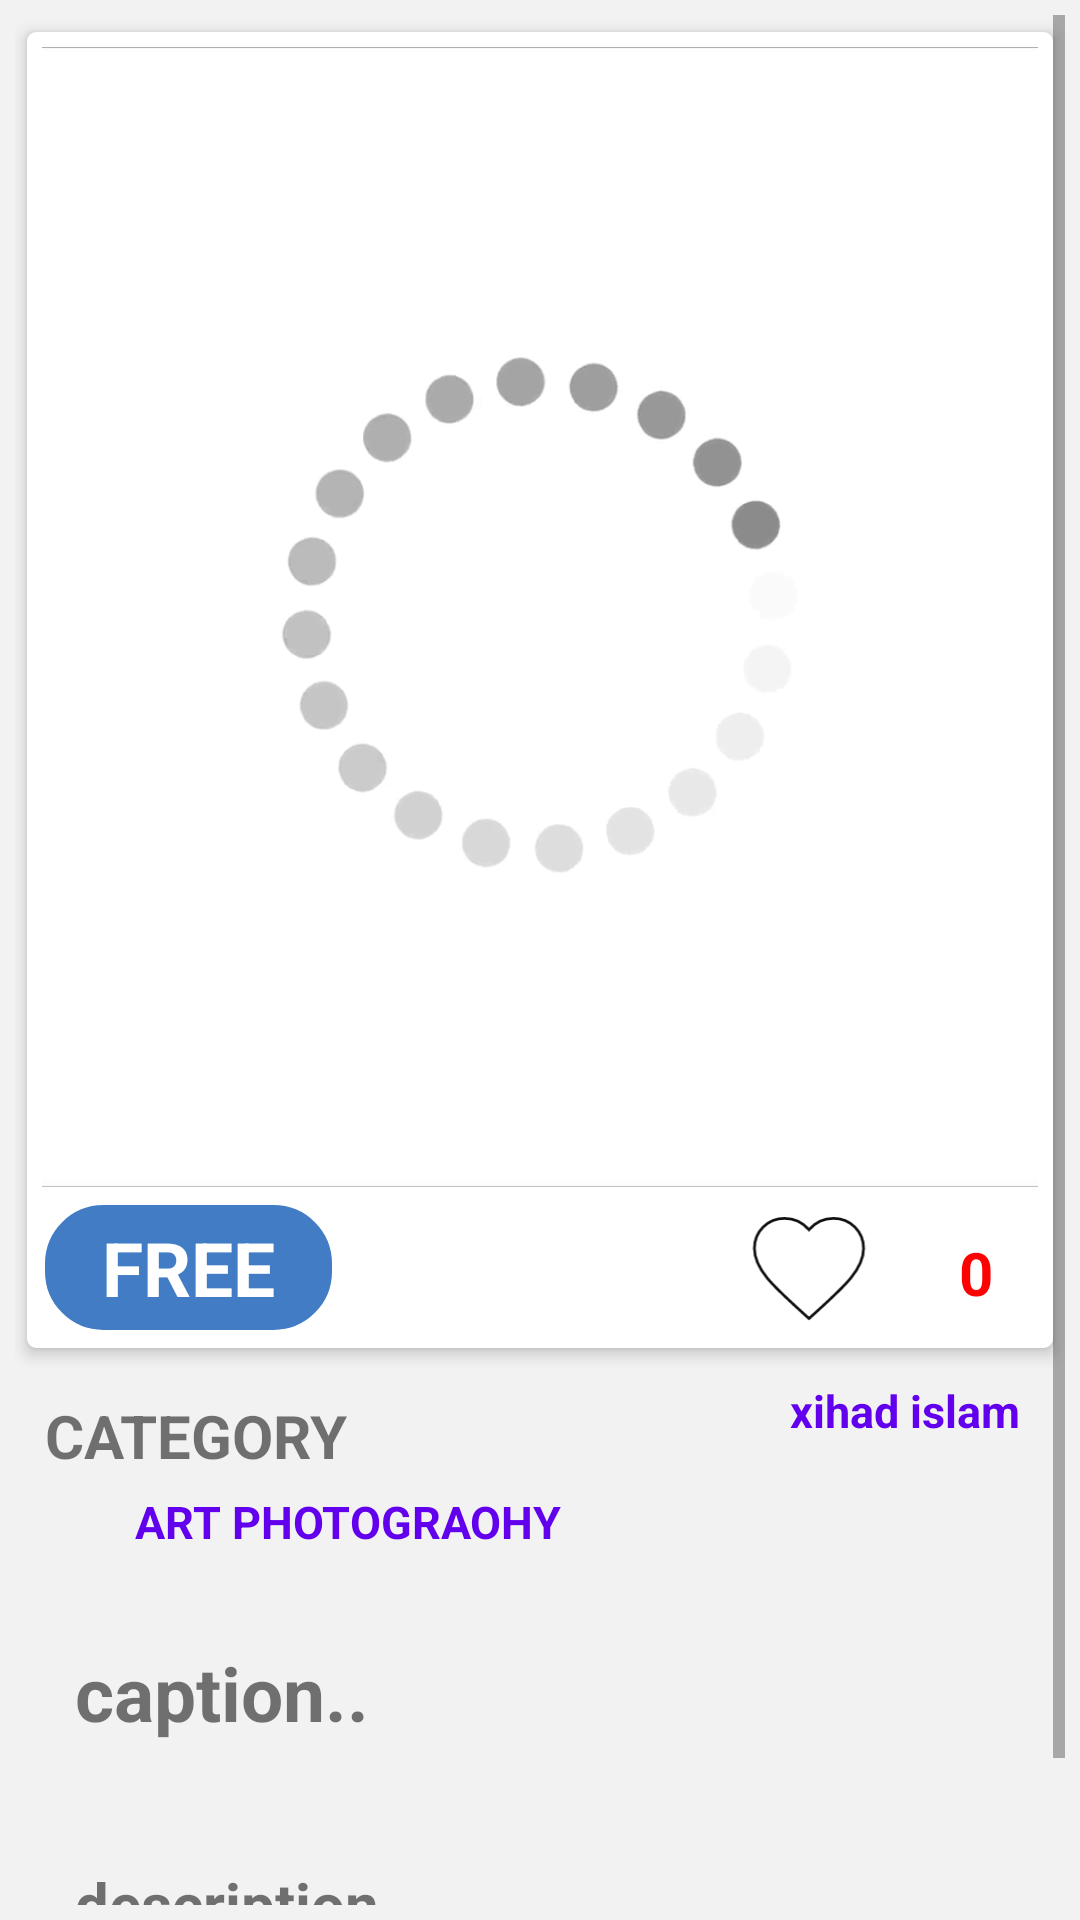

Icon click points for this 1080×1920 phone screenshot, format [x,y]:
heart: [809,1268]
